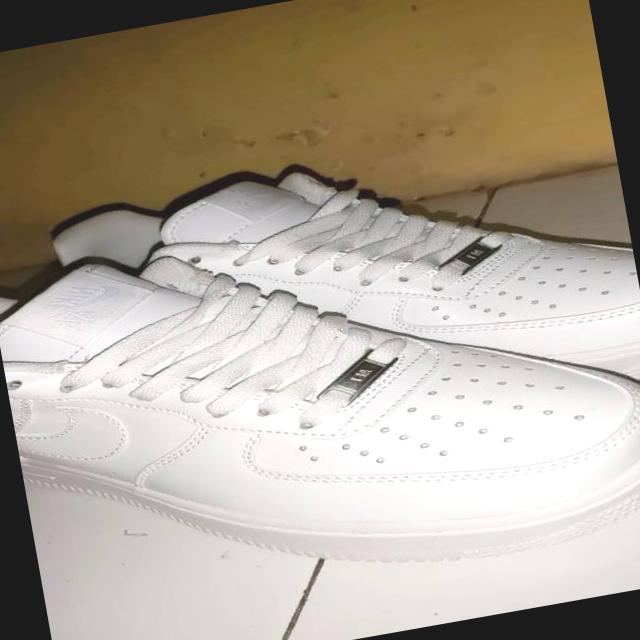nike_original_airforce: (0, 164, 640, 631), (0, 107, 640, 460)
